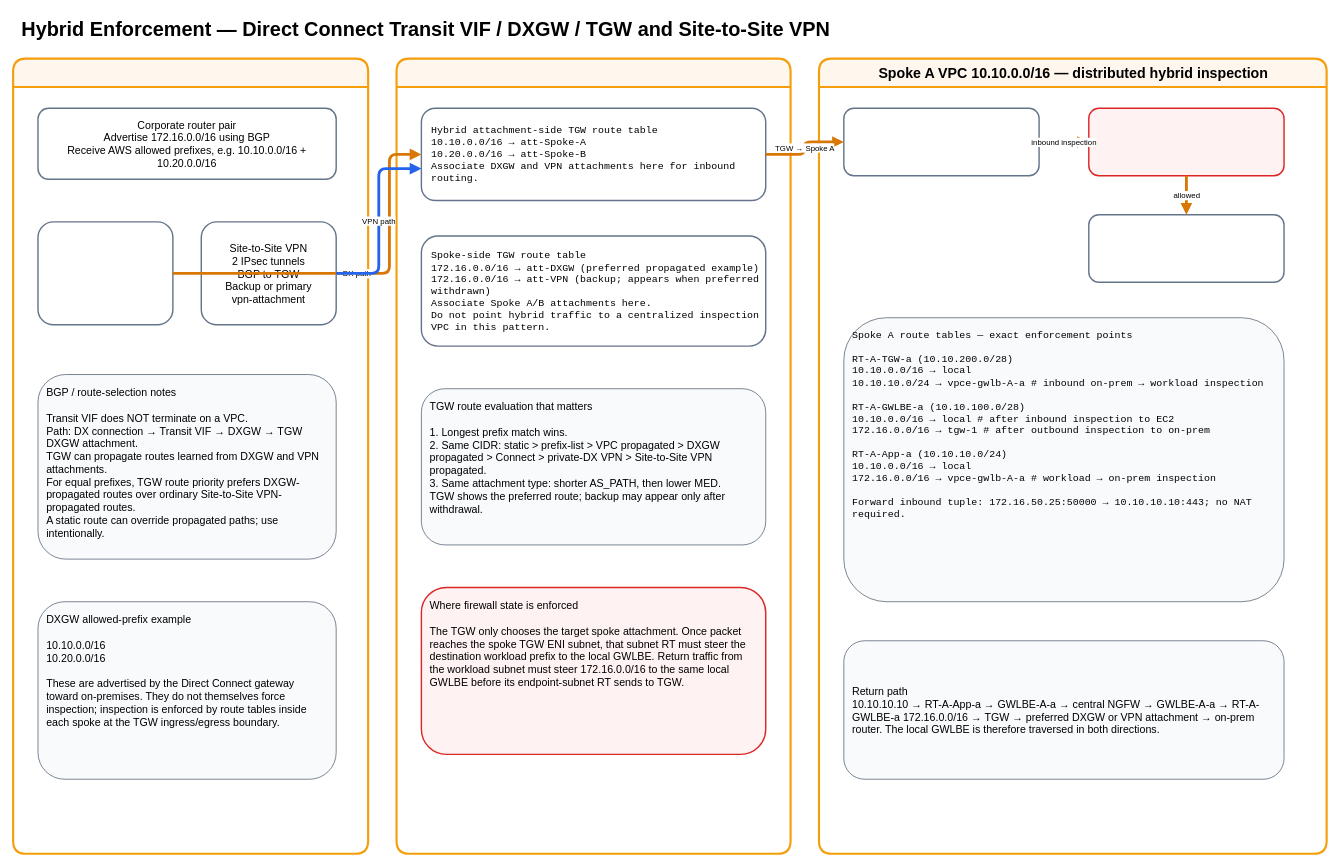
Some shapes in this 1340 by 867 pixel diagram are drawn without their labels. Here are the shapes that lost their labels. From the top down, the box of each, then its label:
(843, 107, 1039, 176): TGW attach subnet A-a 10.10.200.0/28 Packet enters from DX/VPN via TGW
(1088, 107, 1284, 176): GWLBE-A-a 10.10.100.0/28 → central GWLB / NGFW fleet
(1088, 214, 1284, 283): EC2-A 10.10.10.10 App subnet 10.10.10.0/24
(37, 221, 173, 325): Direct Connect Transit VIF Customer VLAN/BGP → DX Gateway → TGW association
(12, 57, 369, 854): On-premises 172.16.0.0/16
(395, 57, 791, 854): AWS Transit Gateway tgw-1
